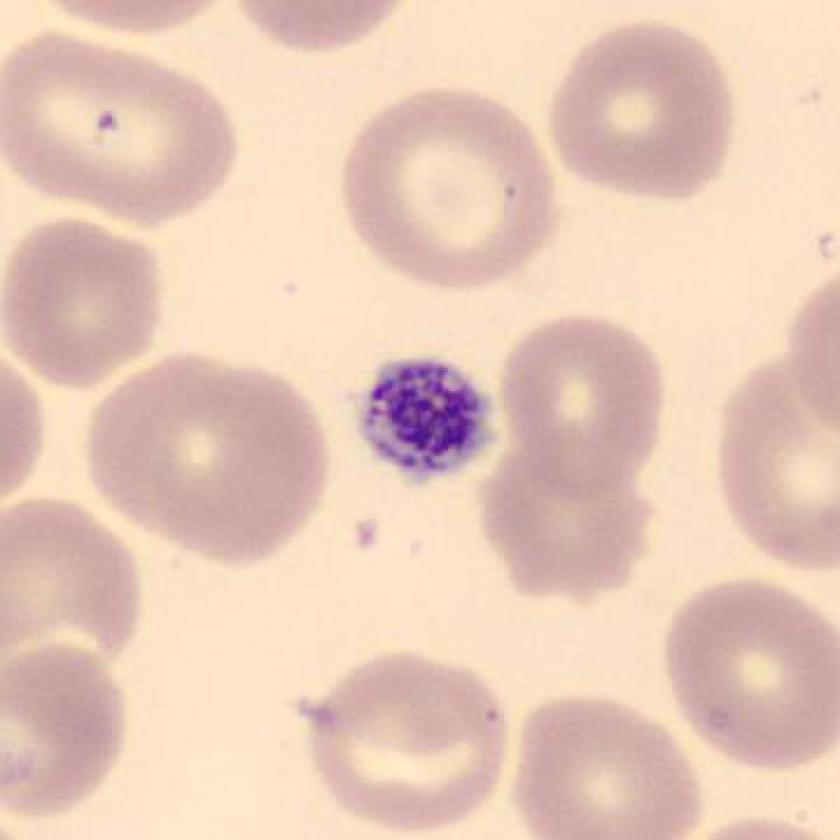platelets: (353, 351, 498, 490)
